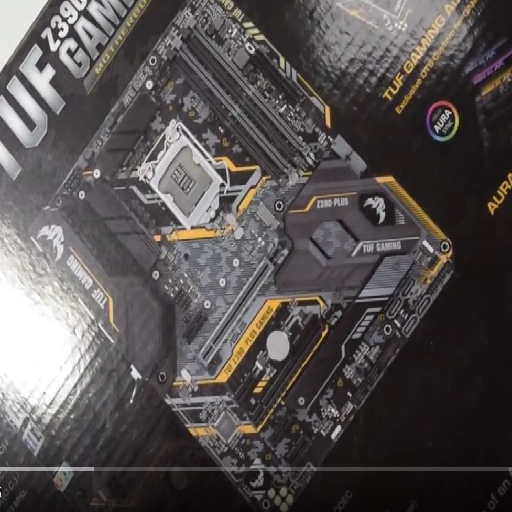CPU: (139, 131, 227, 232)
GPU: (197, 238, 290, 368), (247, 299, 343, 422)
MOTHERBOARD: (31, 2, 466, 507)
RAM: (160, 16, 318, 188)
SSD: (248, 200, 281, 234)
